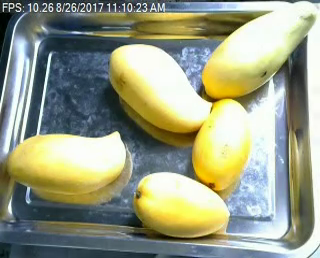Mango: (200, 1, 318, 102), (106, 39, 211, 134), (3, 126, 134, 197), (134, 169, 232, 239), (189, 97, 254, 191)
